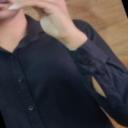hand: (8, 0, 79, 40)
